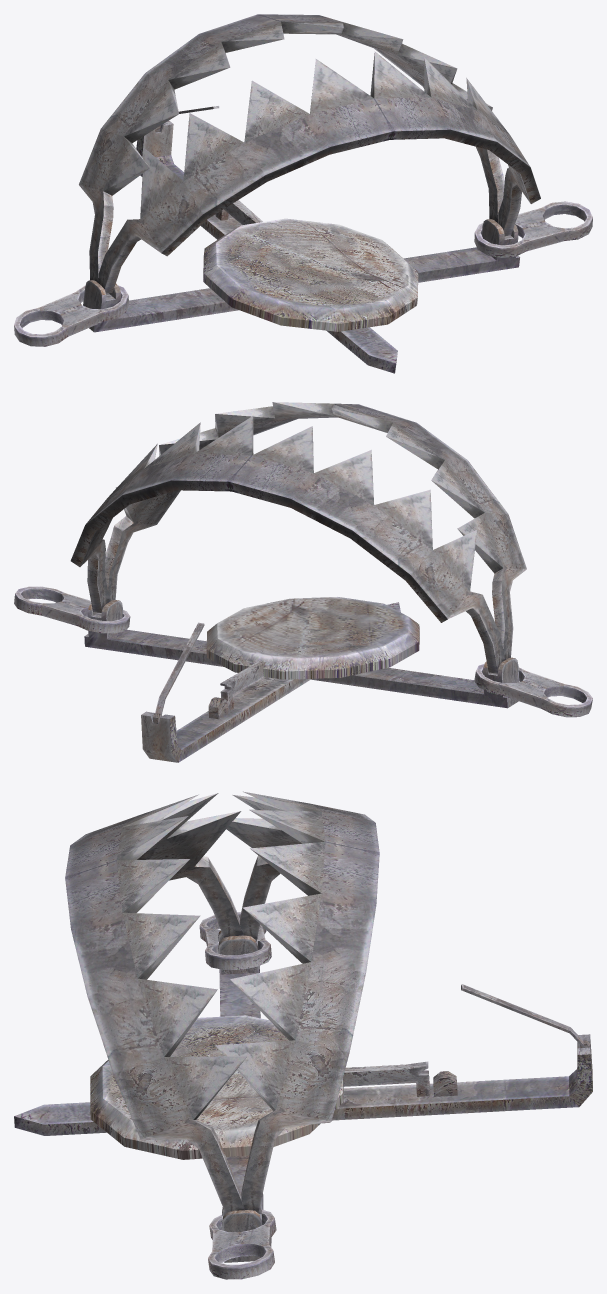
3 views of the same model, one above another, from view 1: azimuth 30°, elevation 25°; view 2: azimuth 150°, elevation 25°; view 3: azimuth 270°, elevation 25° (orthographic). The views are drawn at different scales.
Visible parts, largest first — view 1: Trap_LeftSide, Trap_Center, Trap_RightSide, Trap_Cross, Trap_1, Trap_4; view 2: Trap_RightSide, Trap_LeftSide, Trap_Center, Trap_Cross, Trap_1, Trap_4, Trap_3; view 3: Trap_LeftSide, Trap_RightSide, Trap_Cross, Trap_Center, Trap_1, Trap_4, Trap_3.
Boxes of the visible parts, x1=… form: Trap_LeftSide: x1=98, y1=51, x2=540, y2=293; Trap_Center: x1=203, y1=218, x2=418, y2=331; Trap_RightSide: x1=79, y1=14, x2=504, y2=282; Trap_Cross: x1=83, y1=120, x2=519, y2=373; Trap_1: x1=14, y1=201, x2=592, y2=346; Trap_4: x1=215, y1=200, x2=262, y2=224; Trap_RightSide: x1=70, y1=416, x2=504, y2=673; Trap_LeftSide: x1=105, y1=402, x2=526, y2=659; Trap_Center: x1=206, y1=597, x2=419, y2=679; Trap_Cross: x1=84, y1=600, x2=519, y2=762; Trap_1: x1=14, y1=586, x2=592, y2=717; Trap_4: x1=220, y1=661, x2=265, y2=711; Trap_3: x1=155, y1=622, x2=204, y2=720; Trap_LeftSide: x1=65, y1=793, x2=246, y2=1213; Trap_RightSide: x1=215, y1=791, x2=379, y2=1212; Trap_Cross: x1=14, y1=930, x2=592, y2=1262; Trap_Center: x1=90, y1=1015, x2=343, y2=1159; Trap_1: x1=199, y1=912, x2=276, y2=1279; Trap_4: x1=343, y1=1061, x2=430, y2=1096; Trap_3: x1=461, y1=984, x2=585, y2=1047.
Size of the model in its own units: 150 by 68.66 by 111.
1 material, 1 textured.
